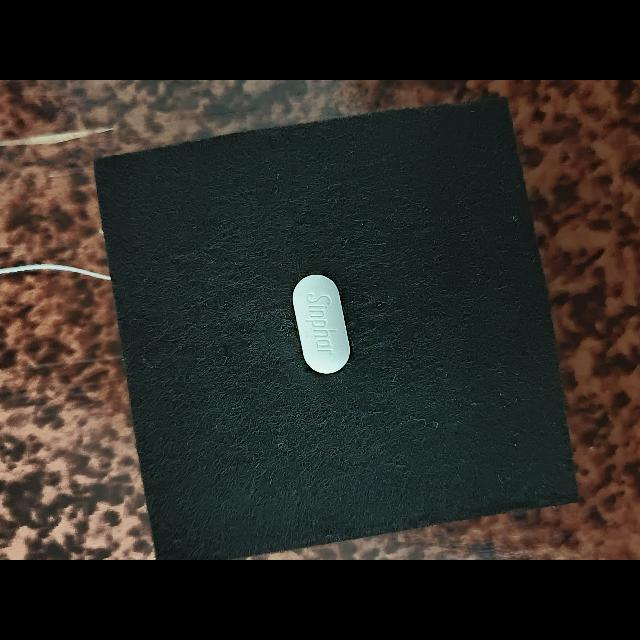Intact Pill: (292, 274, 350, 374)
